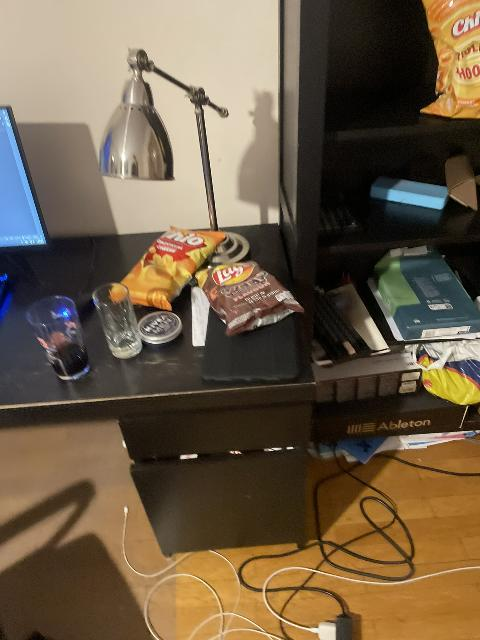Chio Cascaval 125g: (118, 225, 228, 312)
Chio Hula Hoops Cheese 70g: (414, 2, 476, 121)
Lays Beef Grilled Ribs 125g: (198, 259, 303, 336)
